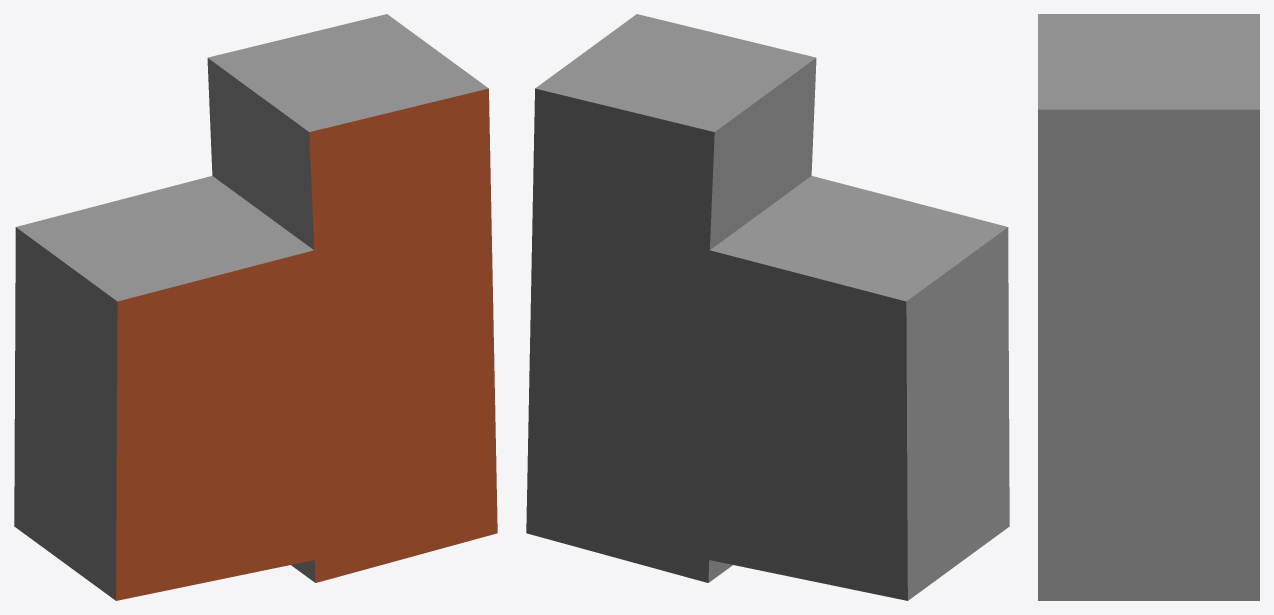
Rendered from construction_5002_assumed_A_Casa_h6m.obj.
3 views of the same model, side by side, from view 1: azimuth 30°, elevation 25°; view 2: azimuth 150°, elevation 25°; view 3: azimuth 270°, elevation 25° (orthographic). The views are drawn at different scales.
Visible parts, largest first — view 1: construction_5002_assumed_A_Casa; view 2: construction_5002_assumed_A_Casa; view 3: construction_5002_assumed_A_Casa.
Boxes of the visible parts, left/top/right/bottom form: construction_5002_assumed_A_Casa: left=14, top=14, right=497, bottom=600; construction_5002_assumed_A_Casa: left=526, top=14, right=1009, bottom=600; construction_5002_assumed_A_Casa: left=1038, top=14, right=1259, bottom=600.
Bounding box in the file's own units: 12.98 × 14.71 × 6.
